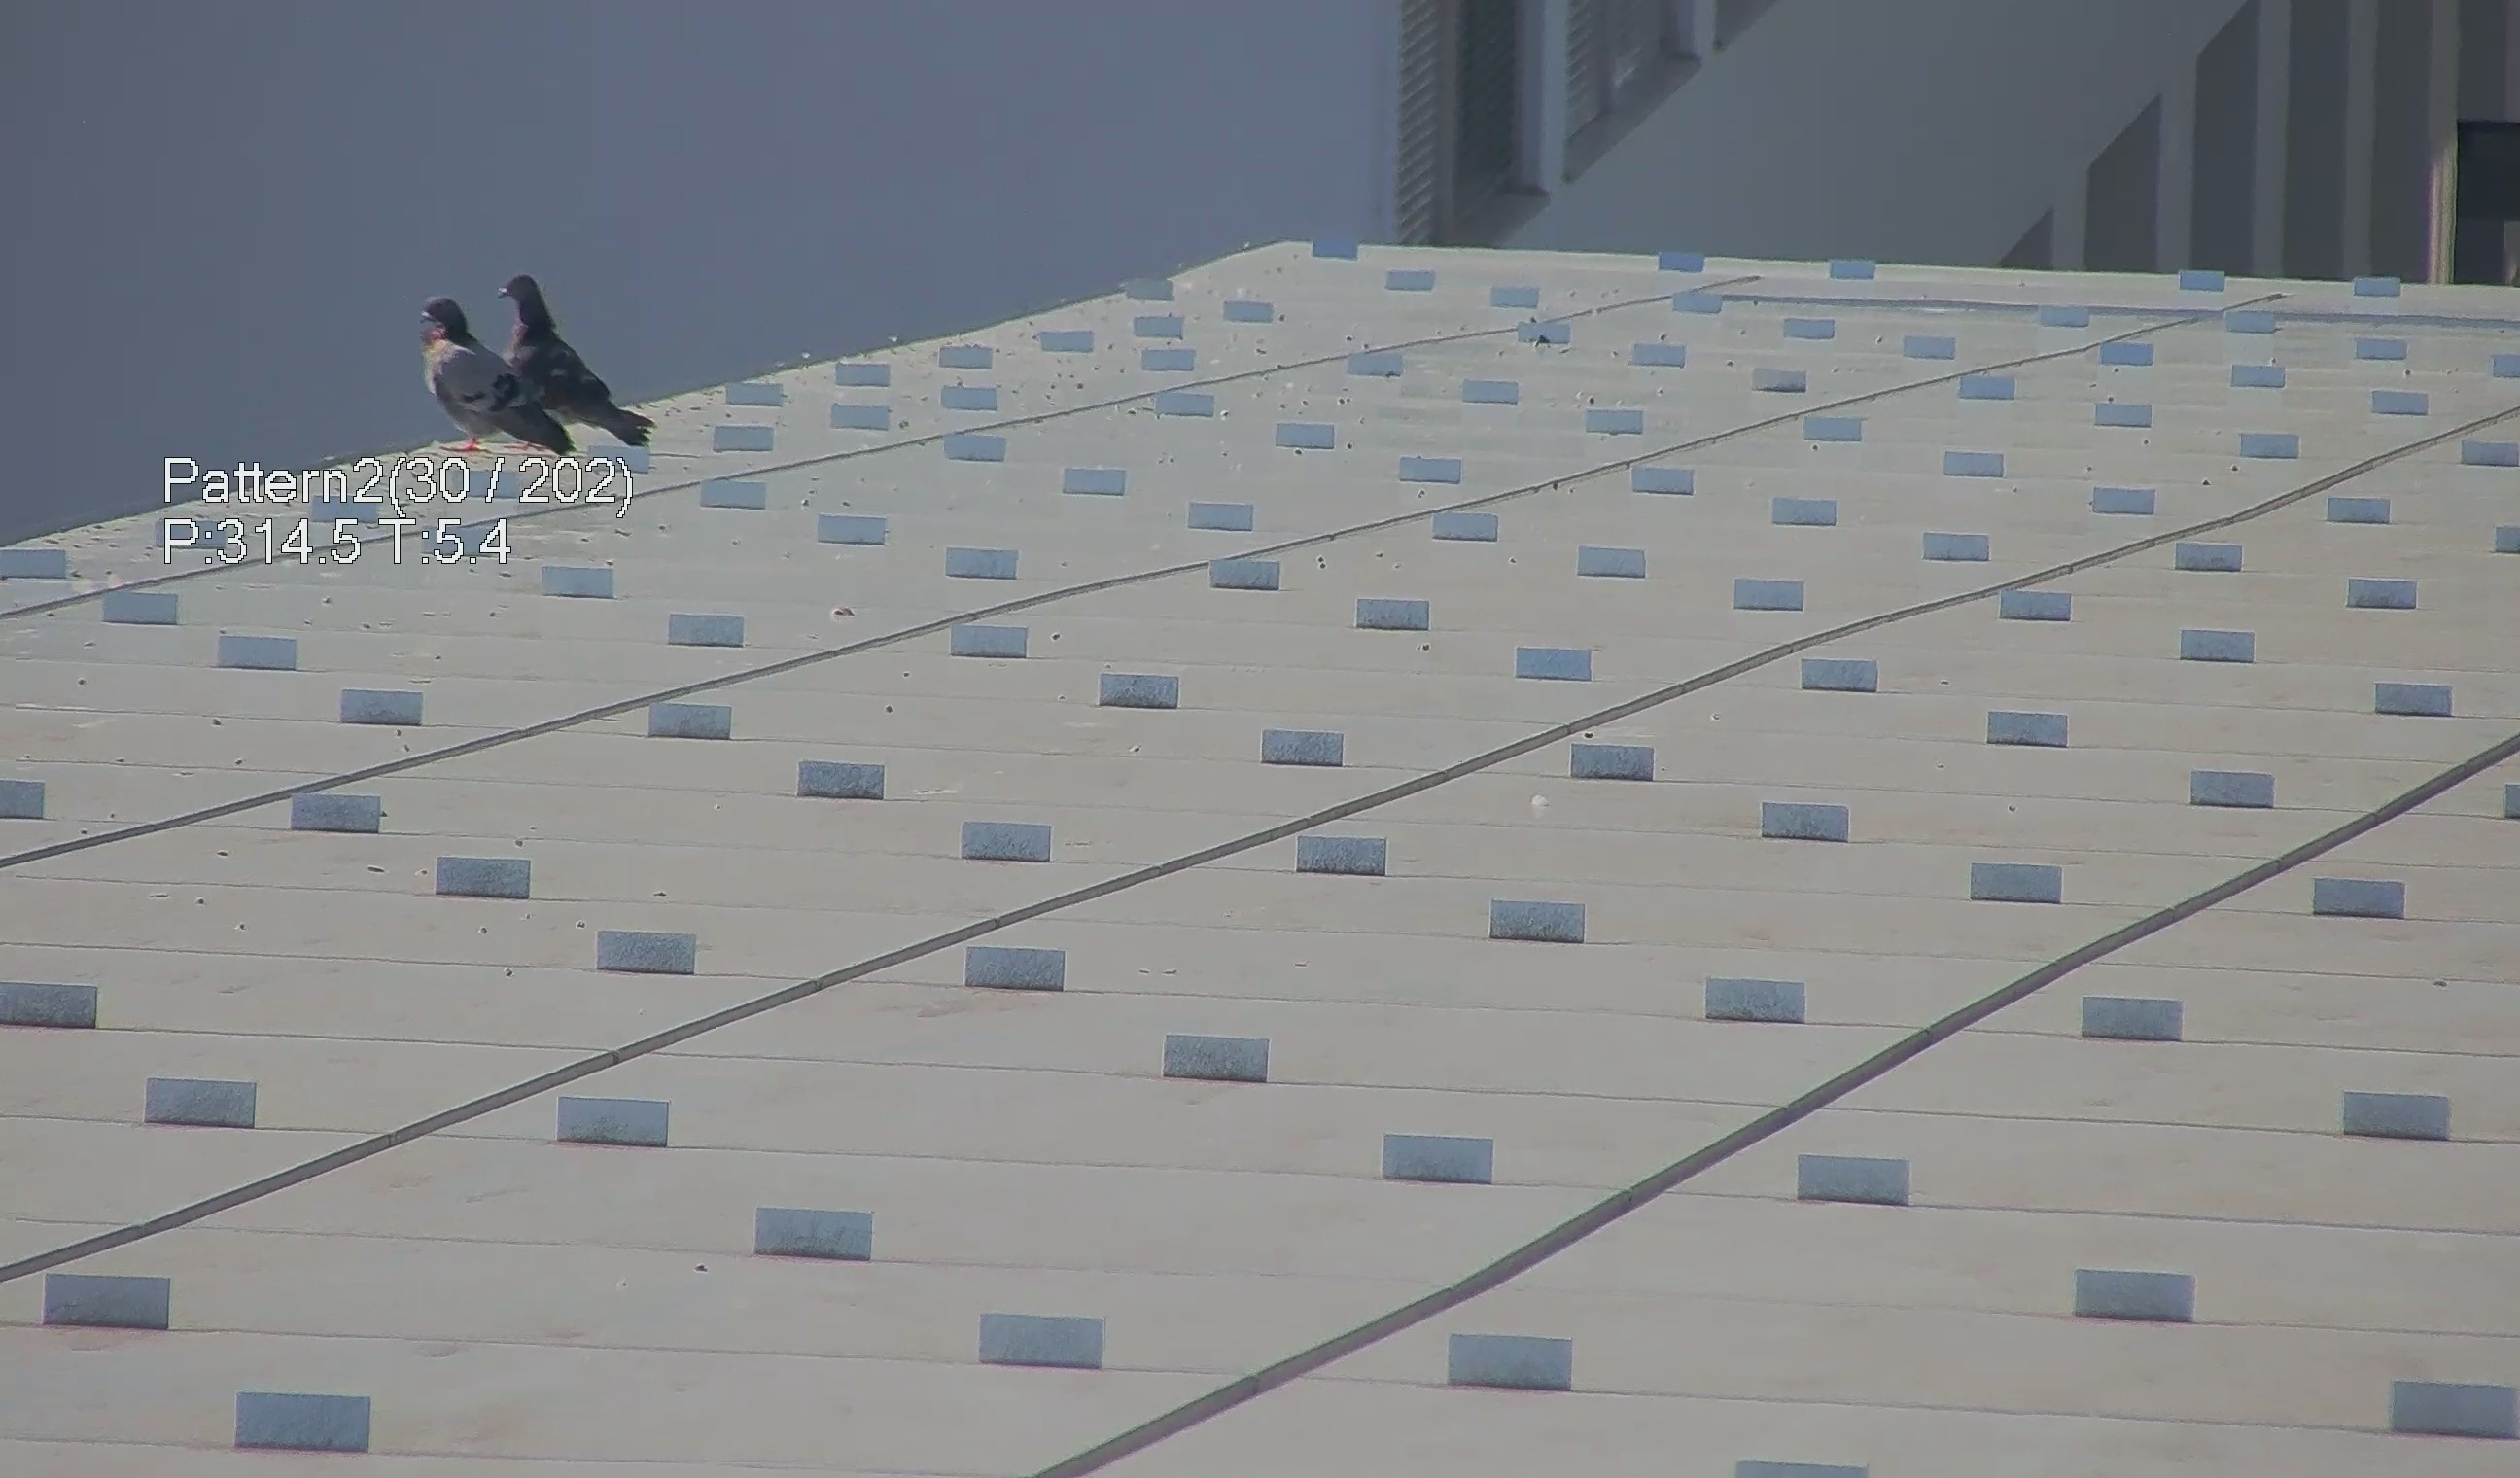Pigeon: (471, 262, 644, 461), (394, 283, 536, 457)
